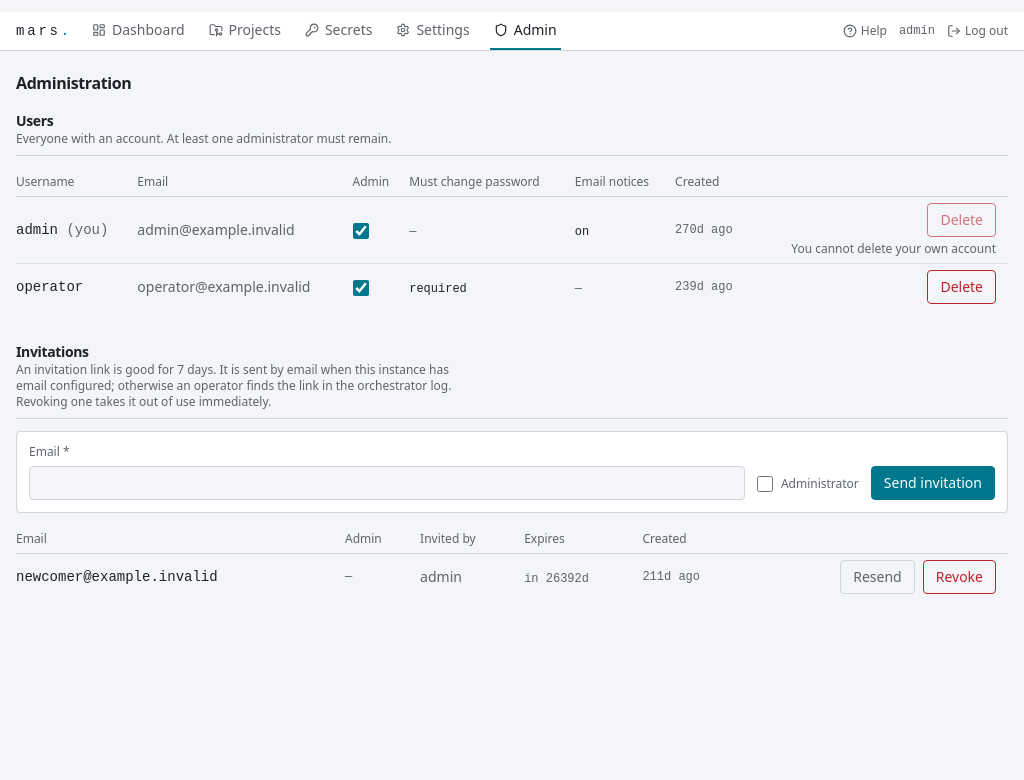
AdminPage › confirms a deletion and shows the server's refusal
This screenshot has width=1024, height=780.
Click the button "Delete" in the row of "operator@example.invalid": (962, 287) [927,270,996,304]
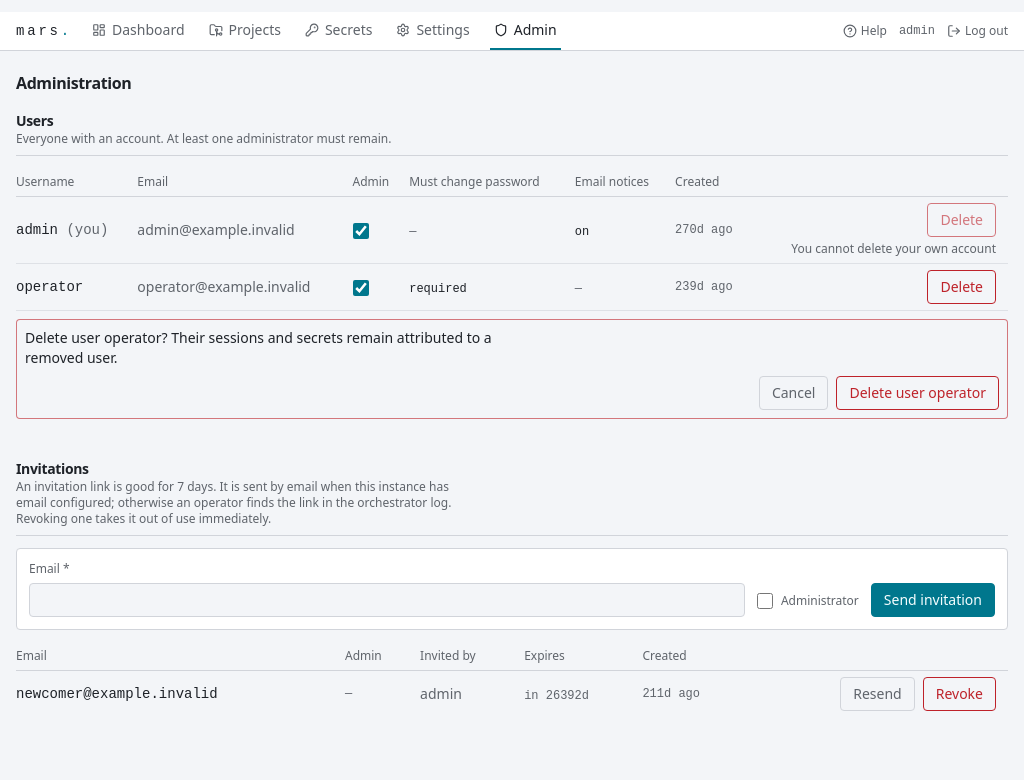
Click the button "Delete user operator": (918, 393) [836,376,999,410]
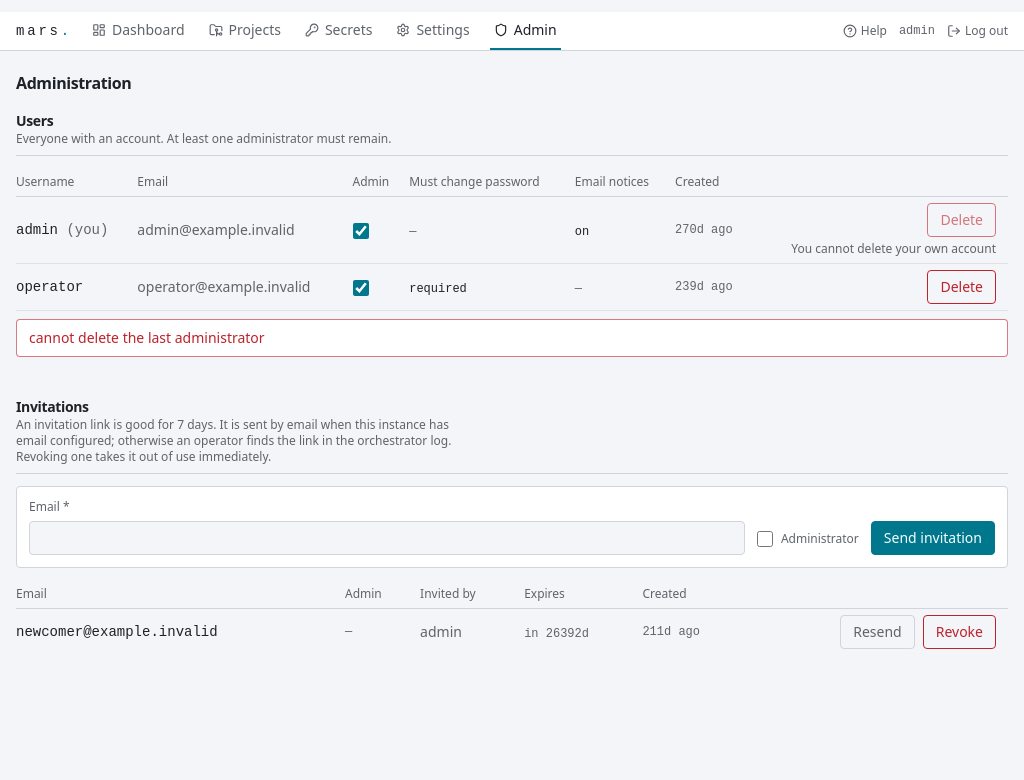
Expected: the text "cannot delete the last administrator" is shown, [29,328,265,347]
